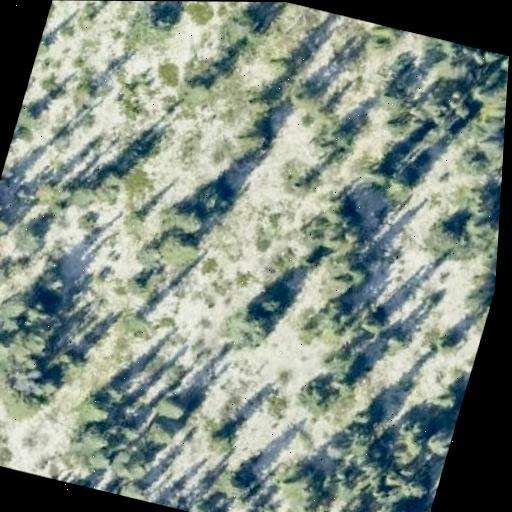tree-top: (0, 285, 63, 376), (146, 199, 219, 271), (296, 285, 363, 349), (218, 293, 282, 354), (157, 187, 220, 245), (0, 367, 58, 428), (422, 210, 481, 264), (151, 222, 208, 274), (218, 2, 273, 52), (452, 179, 502, 228), (377, 160, 425, 208), (4, 214, 52, 262), (148, 385, 198, 431), (75, 388, 122, 431), (198, 418, 243, 460), (178, 67, 221, 109), (327, 352, 370, 394), (215, 461, 259, 502), (416, 421, 455, 463), (325, 483, 372, 512), (488, 252, 497, 296), (65, 478, 98, 489), (0, 191, 8, 224)
